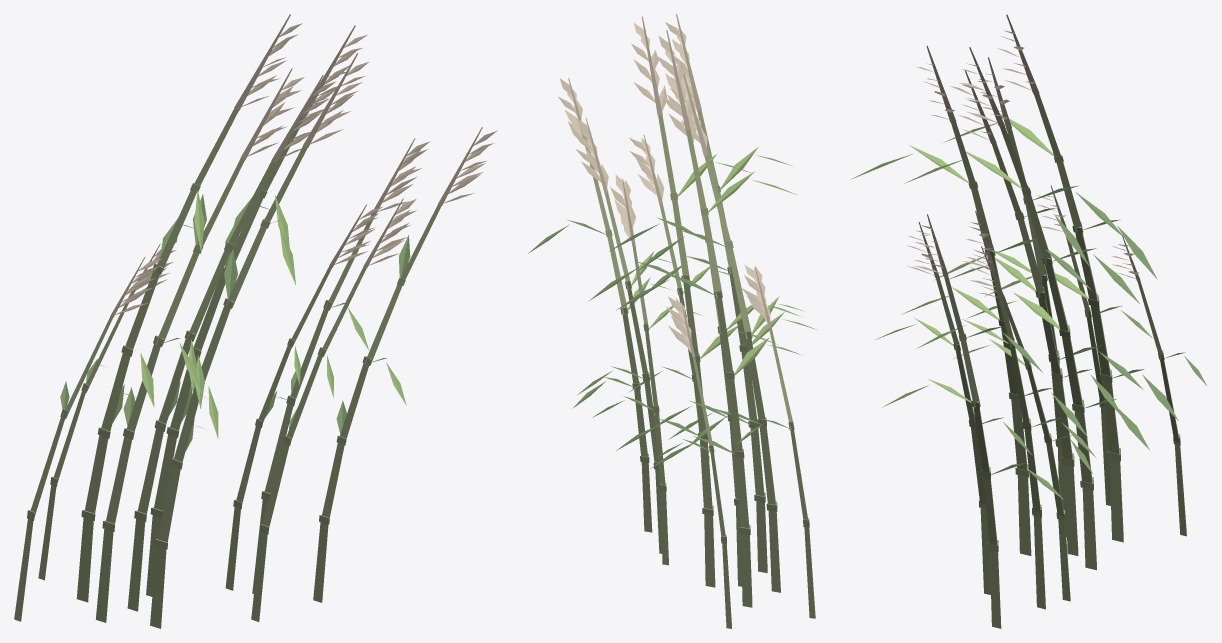
The model's file is shui.luweidang__bloom.glb.
3 views of the same model, side by side, from view 1: azimuth 30°, elevation 25°; view 2: azimuth 150°, elevation 25°; view 3: azimuth 270°, elevation 25° (orthographic). The views are drawn at different scales.
Visible parts, largest first — view 1: shui.luweidang__bloom; view 2: shui.luweidang__bloom; view 3: shui.luweidang__bloom.
Part boxes in pixels (<box>): shui.luweidang__bloom: <box>14,14,497,628</box>; shui.luweidang__bloom: <box>528,14,816,628</box>; shui.luweidang__bloom: <box>850,14,1206,628</box>.
Bounding box in the file's own units: 3.04 × 4.39 × 2.37.
